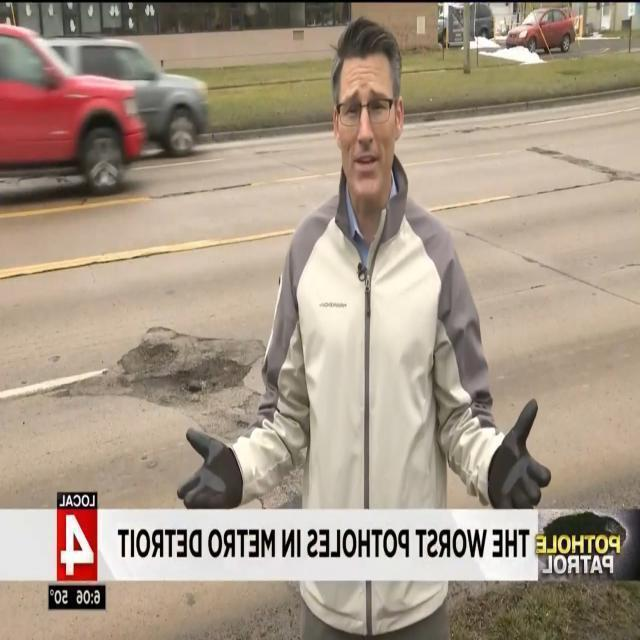Pothole: (28, 324, 266, 408)
